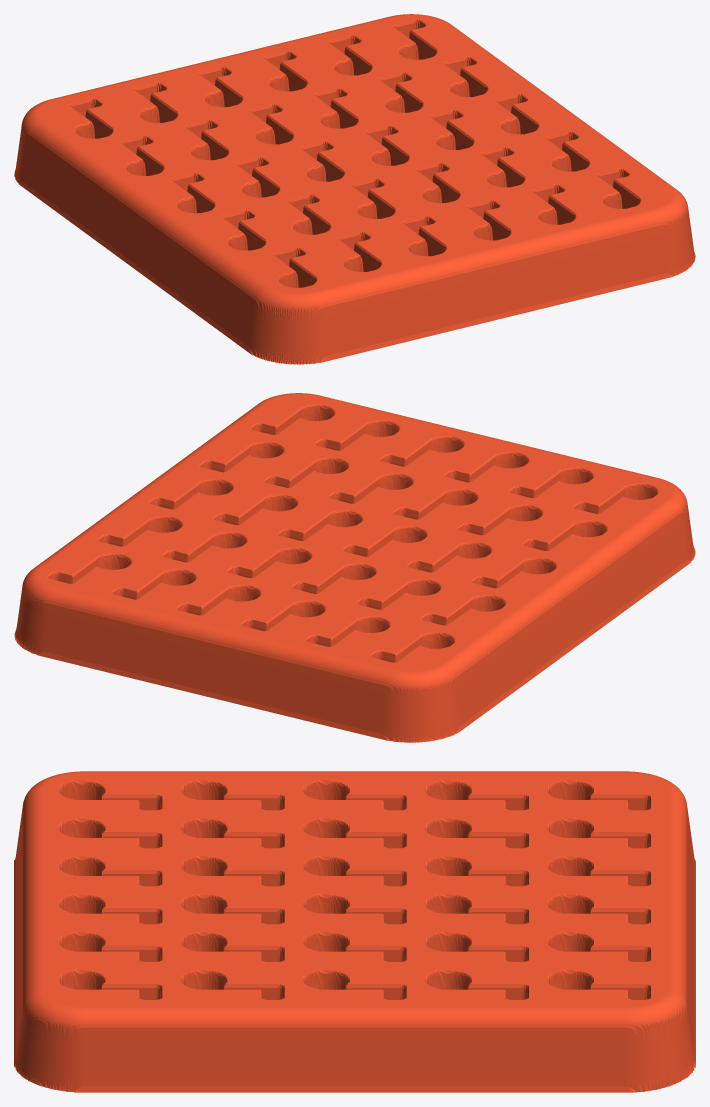
Rendered from mold.glb.
The picture shows the model from 3 angles, top to bottom: view 1: azimuth 30°, elevation 25°; view 2: azimuth 150°, elevation 25°; view 3: azimuth 270°, elevation 25°; orthographic projection. The views are drawn at different scales.
Parts seen in each view (by area): view 1: geometry_0; view 2: geometry_0; view 3: geometry_0.
Boxes of the visible parts, box(x1,y1,x2,y2) form: geometry_0: box(14, 14, 695, 364); geometry_0: box(14, 393, 695, 742); geometry_0: box(14, 771, 695, 1092).
Size of the model in its own units: 0.0788 by 0.0105 by 0.0882.
